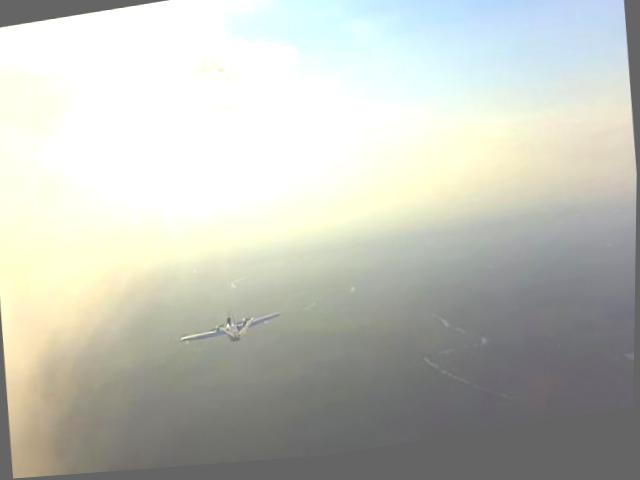iha: (177, 304, 287, 355)
